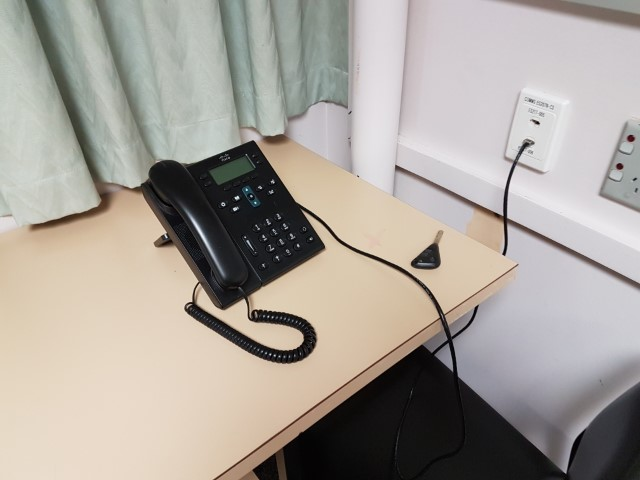key: (412, 228, 445, 269)
